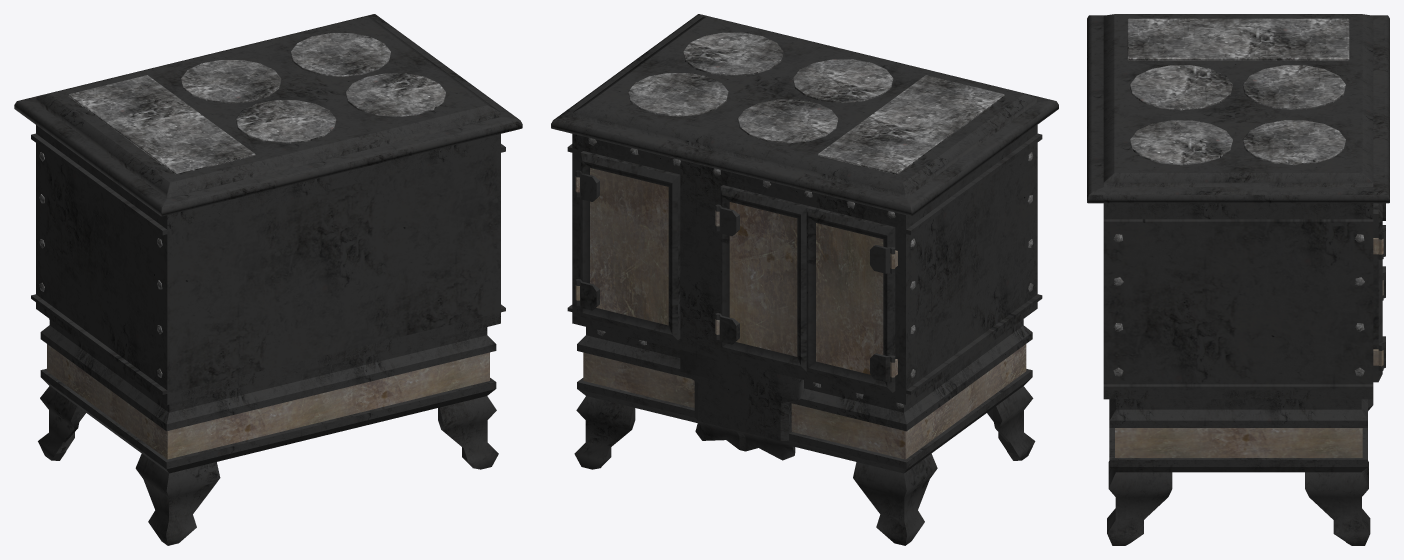
The model's file is WoodStoveABody.fbx.
3 views of the same model, side by side, from view 1: azimuth 30°, elevation 25°; view 2: azimuth 150°, elevation 25°; view 3: azimuth 270°, elevation 25° (orthographic). The views are drawn at different scales.
Visible parts, largest first — view 1: WoodStoveABody; view 2: WoodStoveABody, WoodchamberDoor, RightOvenDoor, LeftOvenDoor; view 3: WoodStoveABody, WoodchamberDoor.
Boxes of the visible parts, x1=… form: WoodStoveABody: x1=14, y1=14, x2=522, y2=545; WoodStoveABody: x1=551, y1=14, x2=1058, y2=545; WoodchamberDoor: x1=575, y1=151, x2=680, y2=340; RightOvenDoor: x1=806, y1=206, x2=895, y2=392; LeftOvenDoor: x1=715, y1=185, x2=808, y2=371; WoodStoveABody: x1=1087, y1=14, x2=1389, y2=545; WoodchamberDoor: x1=1373, y1=203, x2=1385, y2=382.
Bounding box in the file's own units: 106 × 102 × 75.11.
